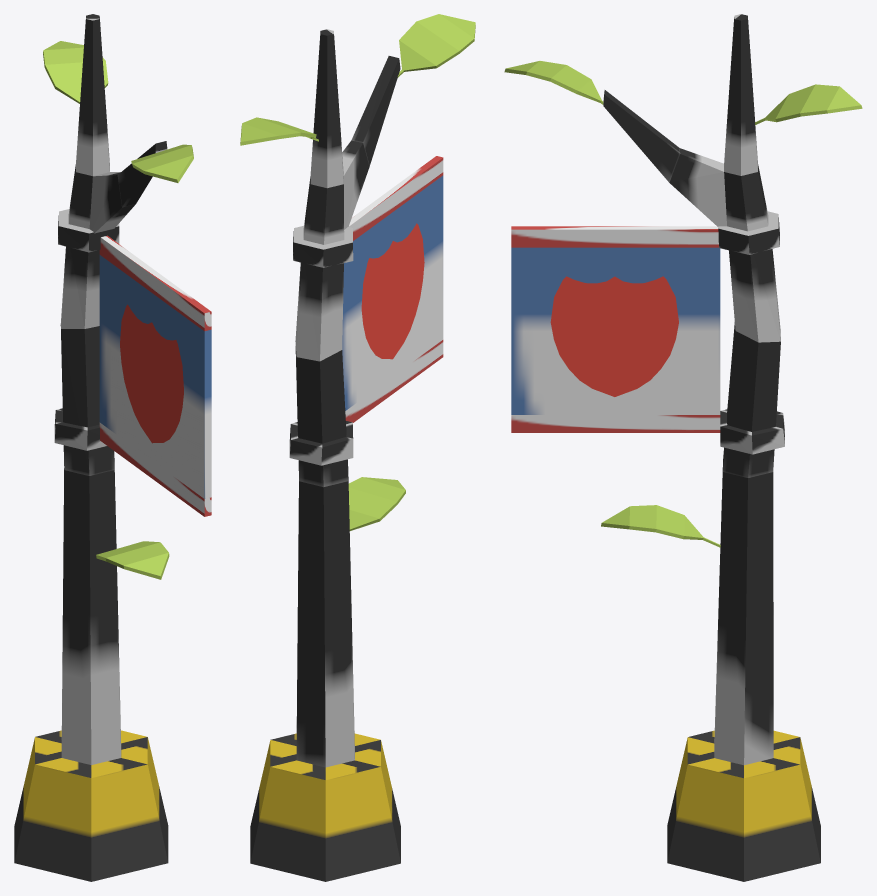
File: tree_12.FBX
The picture shows the model from 3 angles, left to right: view 1: azimuth 30°, elevation 25°; view 2: azimuth 150°, elevation 25°; view 3: azimuth 270°, elevation 25°; orthographic projection. The views are drawn at different scales.
Visible parts, largest first — view 1: tree_12; view 2: tree_12; view 3: tree_12.
Boxes of the visible parts, box(x1,y1,x2,y2) form: tree_12: box(14, 14, 211, 881); tree_12: box(240, 14, 475, 881); tree_12: box(504, 14, 862, 881).
Size of the model in its own units: 261 by 1342 by 527.
